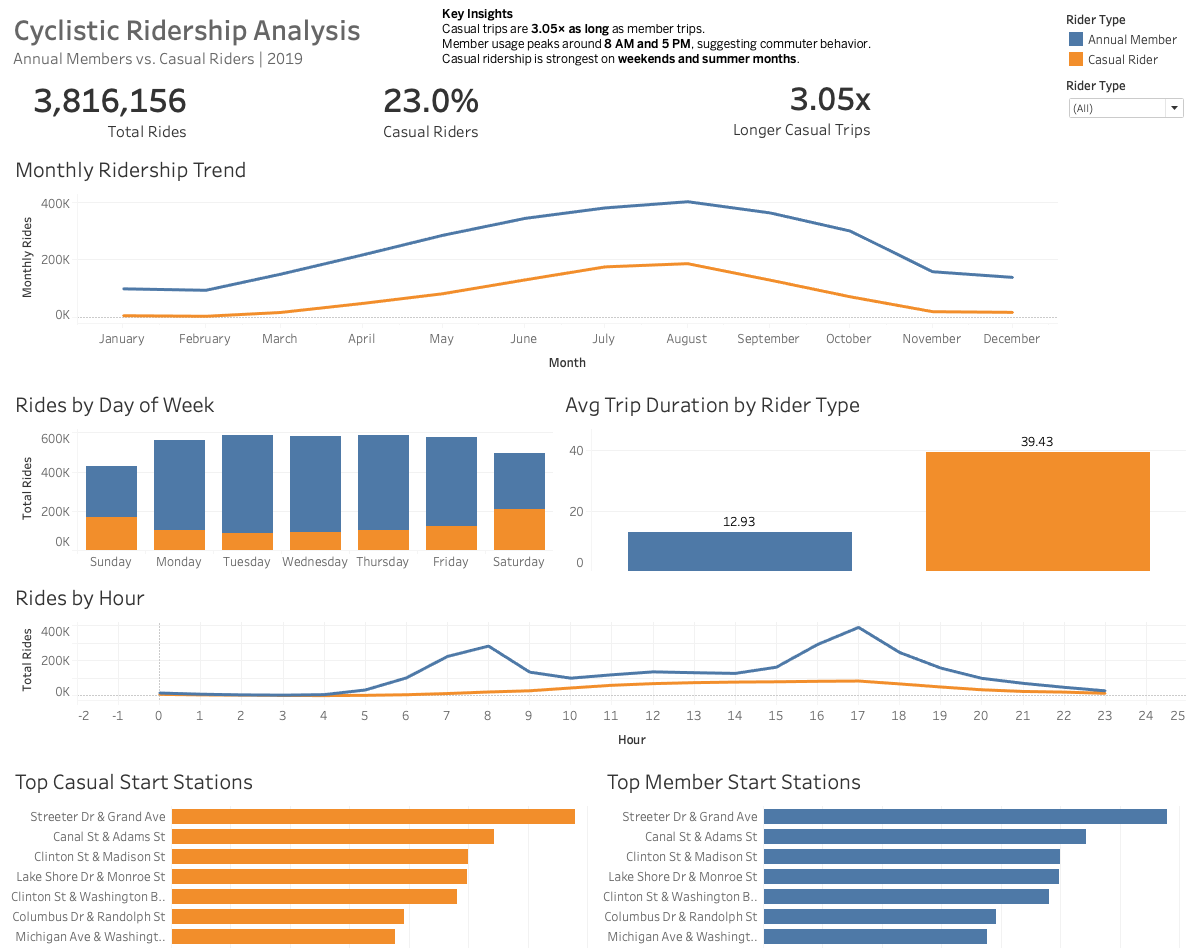

What the dashboard file says about the page in this screenshot:
{"tool":"tableau","page":{"name":"Cyclistic Ridership Dashboard","canvas":[1200,1100],"ordinal":0},"visuals":[{"type":"text","box":[441,3,467,72]},{"type":"text","box":[8,8,1055,66]},{"type":"legend","title":"Monthly Ridership Trend","param":"[federated.1qsxi7h16pszh11bo0wf70z3nvbv].[none:rider_type:nk]","box":[1063,8,129,66]},{"type":"worksheet","title":"KPI - Total Rides","mark":"Automatic","box":[8,74,352,74]},{"type":"worksheet","title":"KPI - Casual Rider %","mark":"Automatic","box":[360,74,352,74]},{"type":"worksheet","title":"KPI - Casual Trip Duration","mark":"Automatic","box":[712,74,351,74]},{"type":"filter","title":"Monthly Ridership Trend","param":"[federated.1qsxi7h16pszh11bo0wf70z3nvbv].[none:rider_type:nk]","box":[1063,74,129,52]},{"type":"worksheet","title":"Monthly Ridership Trend","mark":"Automatic","rows":["trip_id"],"cols":["start_time"],"box":[8,148,1055,235]},{"type":"worksheet","title":"Rides by Day of Week","mark":"Automatic","rows":["trip_id"],"cols":["day_of_week"],"box":[8,383,550,193]},{"type":"worksheet","title":"Avg Trip Duration by Rider Type","mark":"Bar","rows":["trip_duration_minutes"],"cols":["rider_type"],"box":[558,383,634,193]},{"type":"worksheet","title":"Rides by Hour","mark":"Line","rows":["trip_id"],"cols":["hour"],"box":[8,576,1184,184]},{"type":"worksheet","title":"Top Casual Start Stations","mark":"Automatic","rows":["from_station_name"],"cols":["trip_id"],"box":[8,760,592,332]},{"type":"worksheet","title":"Top Member Start Stations","mark":"Automatic","rows":["from_station_name"],"cols":["trip_id"],"box":[600,760,592,332]}]}

Visuals, with their boxes on the page's 1200x1100 design canvas (x1, y1, x2, y2). These are canvas units, not pixel positions in the 1186x948 screenshot, which may show the page scaled, cropped or inside an application window:
text: <box>441,3,908,75</box>
text: <box>8,8,1063,74</box>
"Monthly Ridership Trend" legend: <box>1063,8,1192,74</box>
"KPI - Total Rides" worksheet: <box>8,74,360,148</box>
"KPI - Casual Rider %" worksheet: <box>360,74,712,148</box>
"KPI - Casual Trip Duration" worksheet: <box>712,74,1063,148</box>
"Monthly Ridership Trend" filter: <box>1063,74,1192,126</box>
"Monthly Ridership Trend" worksheet: <box>8,148,1063,383</box>
"Rides by Day of Week" worksheet: <box>8,383,558,576</box>
"Avg Trip Duration by Rider Type" worksheet (Bar marks): <box>558,383,1192,576</box>
"Rides by Hour" worksheet (Line marks): <box>8,576,1192,760</box>
"Top Casual Start Stations" worksheet: <box>8,760,600,1092</box>
"Top Member Start Stations" worksheet: <box>600,760,1192,1092</box>
